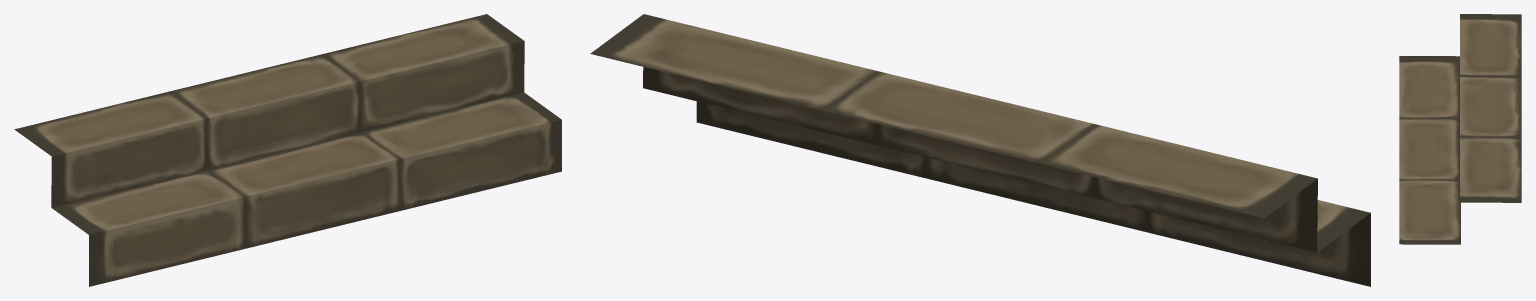
File: Stairs_module.fbx
The picture shows the model from 3 angles, left to right: view 1: azimuth 30°, elevation 25°; view 2: azimuth 150°, elevation 25°; view 3: azimuth 270°, elevation 25°; orthographic projection. The views are drawn at different scales.
Parts seen in each view (by area): view 1: Stairs_module; view 2: Stairs_module; view 3: Stairs_module.
Part boxes in pixels (x1,y1,x2,y2): Stairs_module: (14,14,561,286); Stairs_module: (590,14,1370,286); Stairs_module: (1399,14,1521,244).
Size of the model in its own units: 245 by 51.14 by 67.12.
